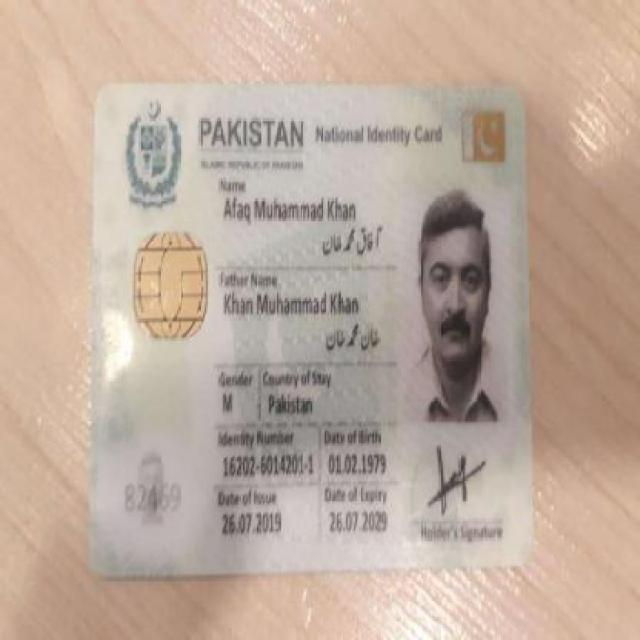Front: (82, 69, 540, 582)
